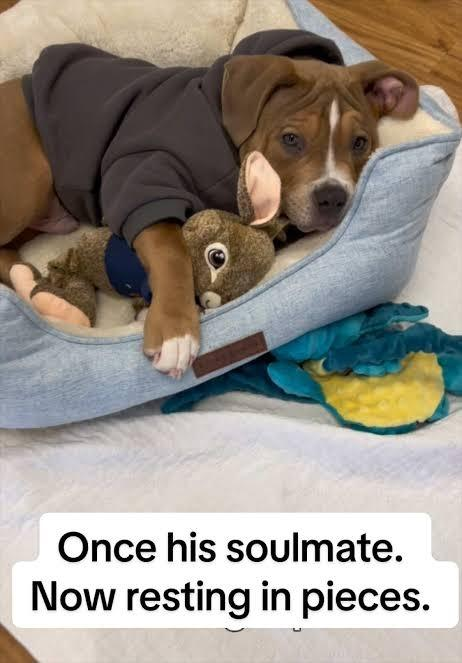non-dog: (1, 150, 283, 330)
puppy-dog: (0, 28, 420, 377)
